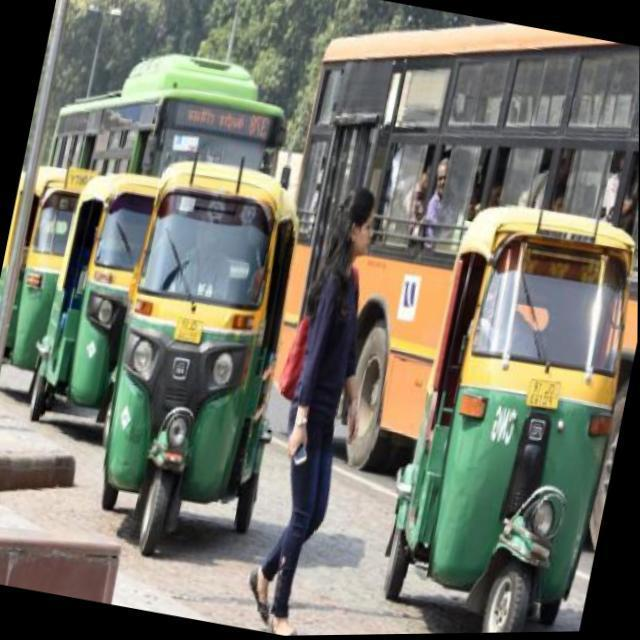Bus: (296, 34, 640, 417), (12, 44, 304, 170)
